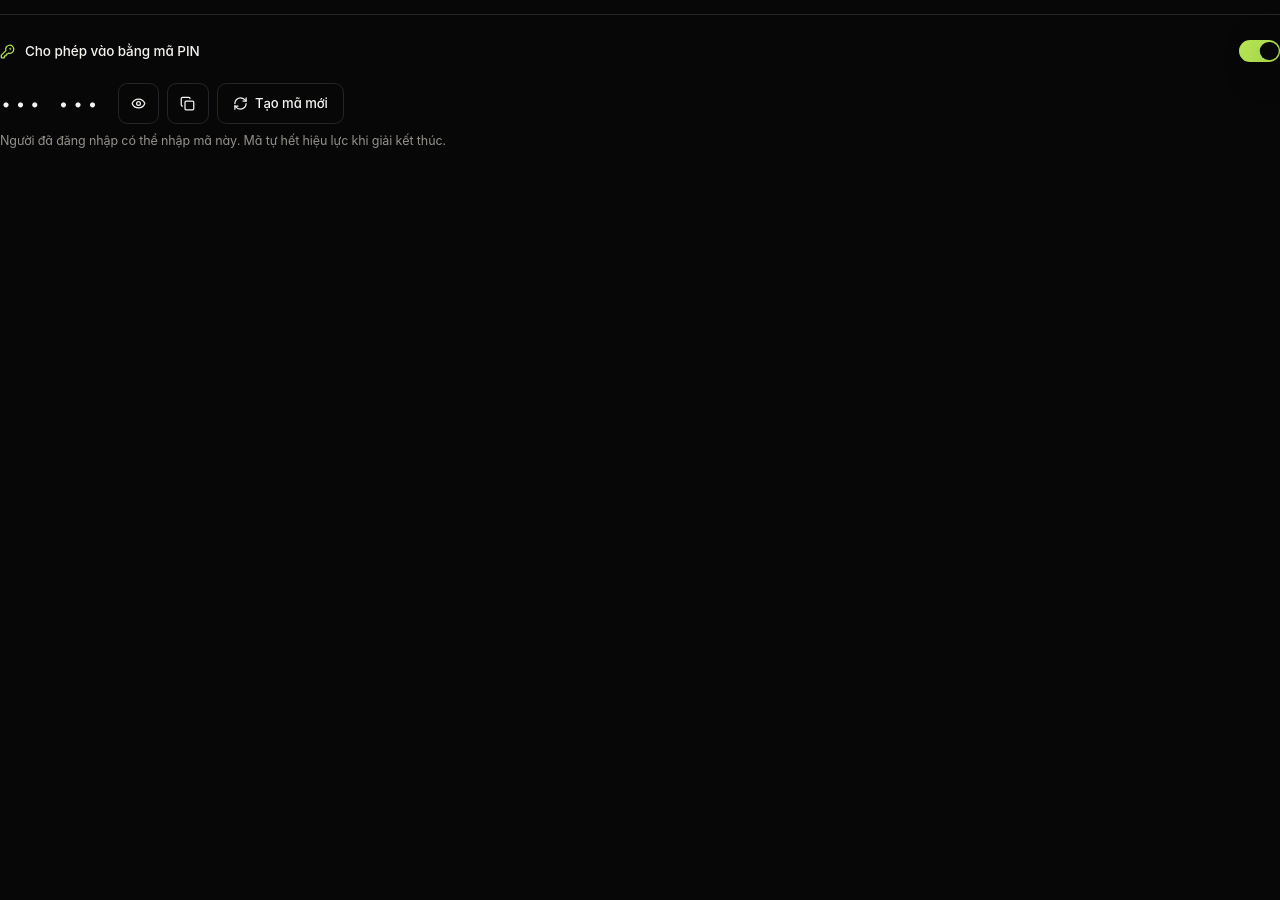
Test: RefereePinSettings — load › renders an active PIN masked, then reveals on demand
Expected: the text named "Mã PIN trọng tài" reads "••• •••", [0,91,101,117]
Click the button named "Hiện mã PIN": (139, 104) [118,83,159,124]
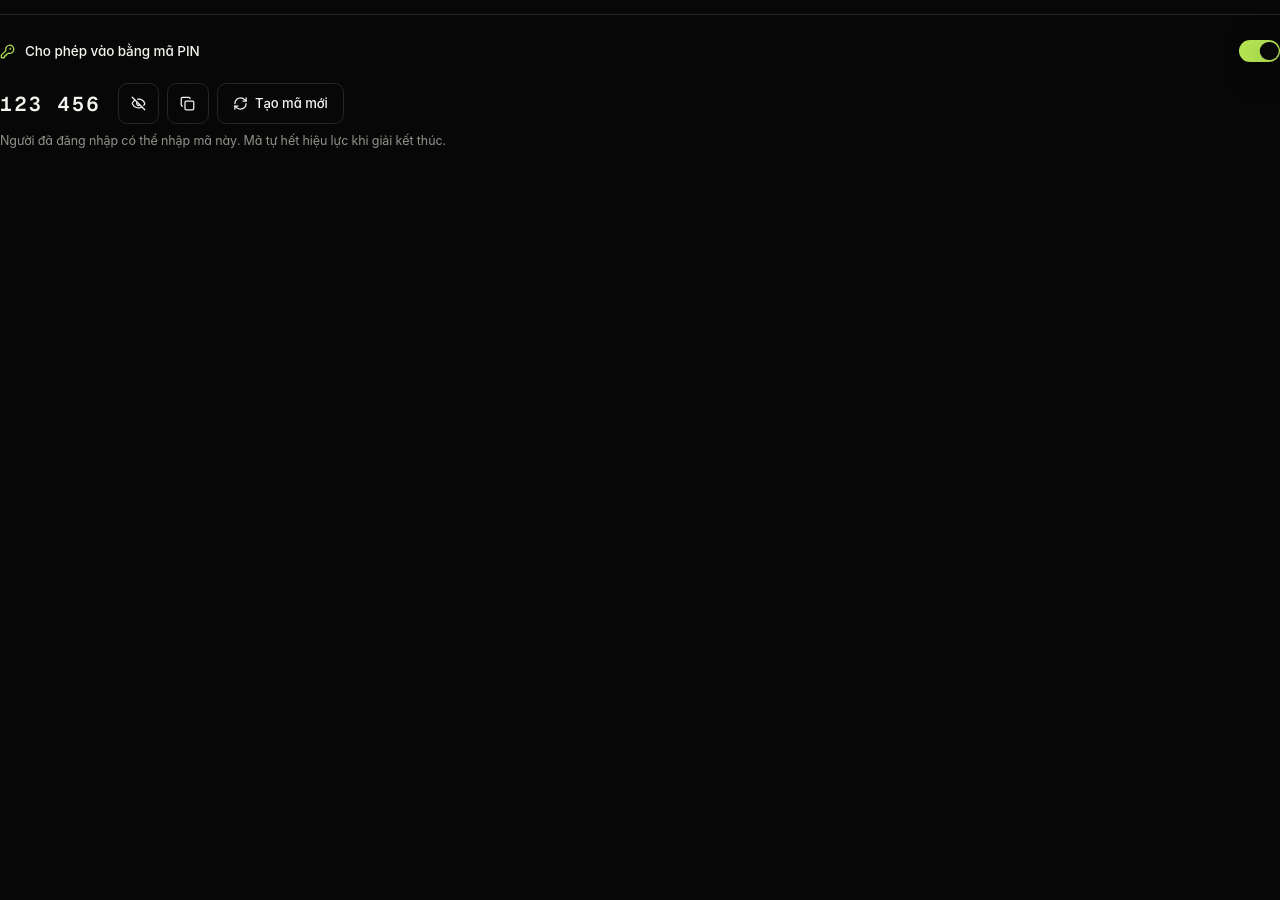
Now the text named "Mã PIN trọng tài" reads "123 456", box [0,91,101,117]
